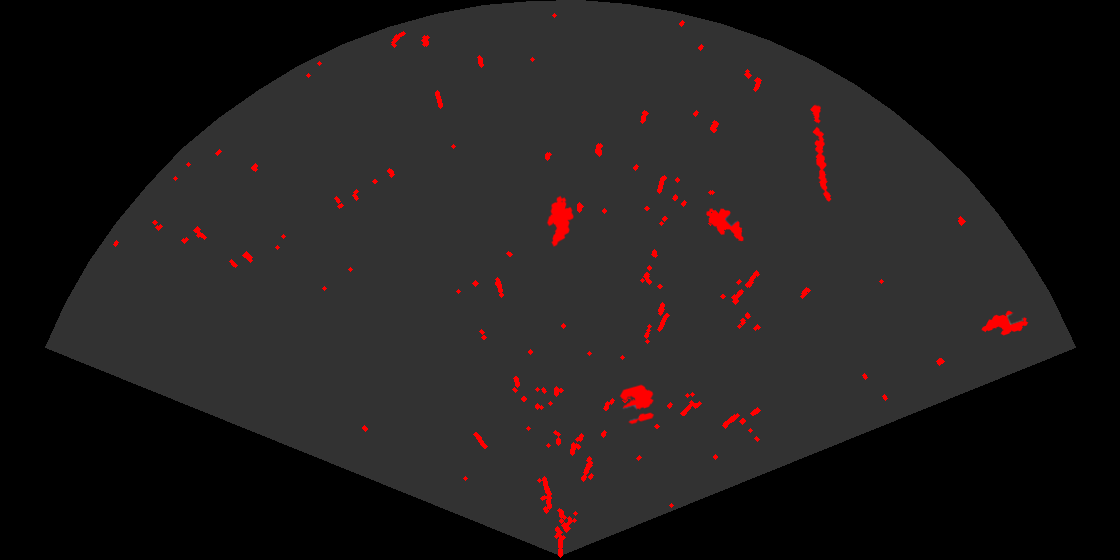AUV: (545, 194, 575, 248), (705, 207, 745, 243), (980, 309, 1030, 337)
ball: (618, 383, 656, 426)
chain: (809, 102, 833, 203)
